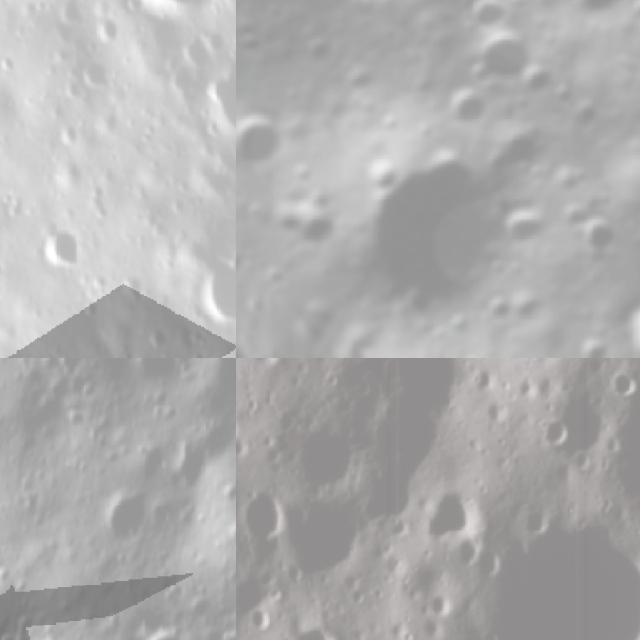crater: (310, 115, 544, 350), (462, 512, 640, 640), (272, 483, 375, 584), (460, 16, 550, 103), (475, 111, 558, 199), (284, 416, 361, 497), (236, 96, 302, 187), (280, 192, 354, 266), (416, 482, 488, 550), (602, 375, 640, 500), (564, 206, 634, 273), (184, 358, 236, 447), (85, 479, 154, 546), (494, 192, 561, 259), (30, 206, 88, 283), (536, 0, 640, 40), (196, 48, 236, 151), (436, 77, 499, 137), (188, 253, 236, 330), (236, 488, 289, 550), (455, 0, 520, 47), (330, 55, 383, 109), (287, 24, 341, 77), (563, 89, 615, 142), (610, 282, 640, 358), (559, 322, 621, 358), (478, 289, 526, 335), (542, 73, 585, 121), (8, 358, 108, 378), (75, 53, 119, 96), (125, 621, 193, 640), (542, 410, 572, 450), (276, 623, 345, 640), (248, 358, 293, 369)
